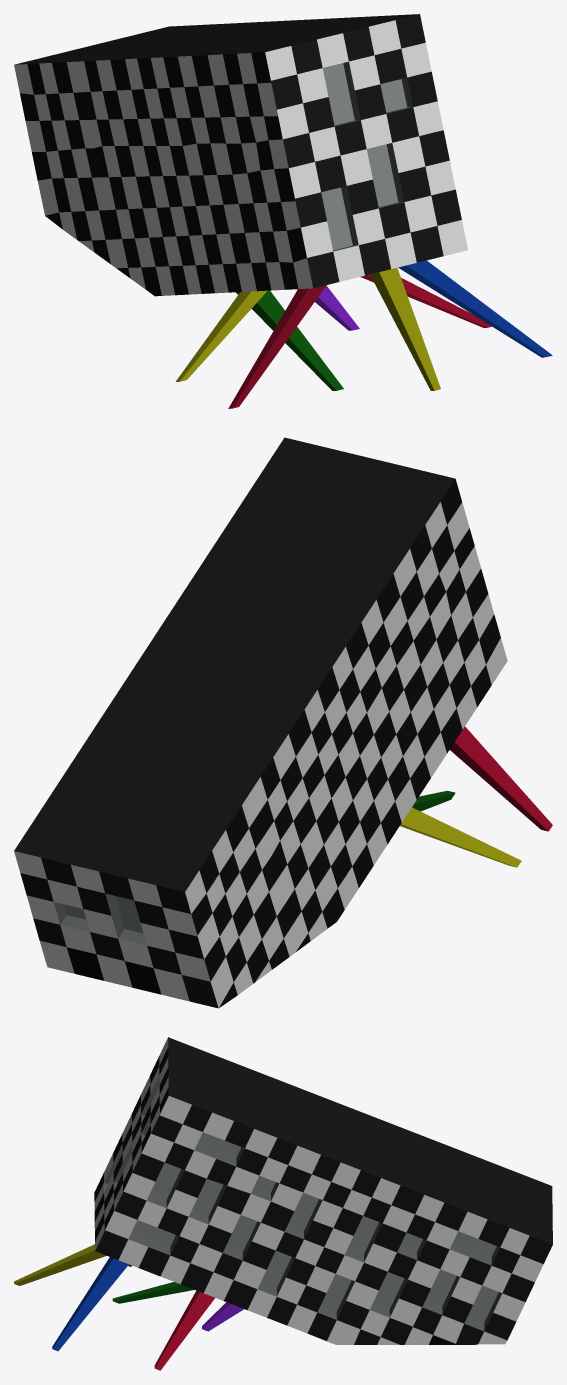
Rendered from OCAD smashed.fbx.
3 renders of one model, top to bottom at view 1: azimuth 30°, elevation 25°; view 2: azimuth 150°, elevation 25°; view 3: azimuth 270°, elevation 25°, orthographic. The views are drawn at different scales.
Visible parts, largest first — view 1: pCube1; view 2: pCube1; view 3: pCube1.
Boxes of the visible parts, box(x1,y1,x2,y2) form: pCube1: box(14, 14, 552, 408); pCube1: box(14, 437, 552, 1008); pCube1: box(14, 1037, 552, 1370).
Bounding box in the file's own units: 11.34 × 11.93 × 23.28.
